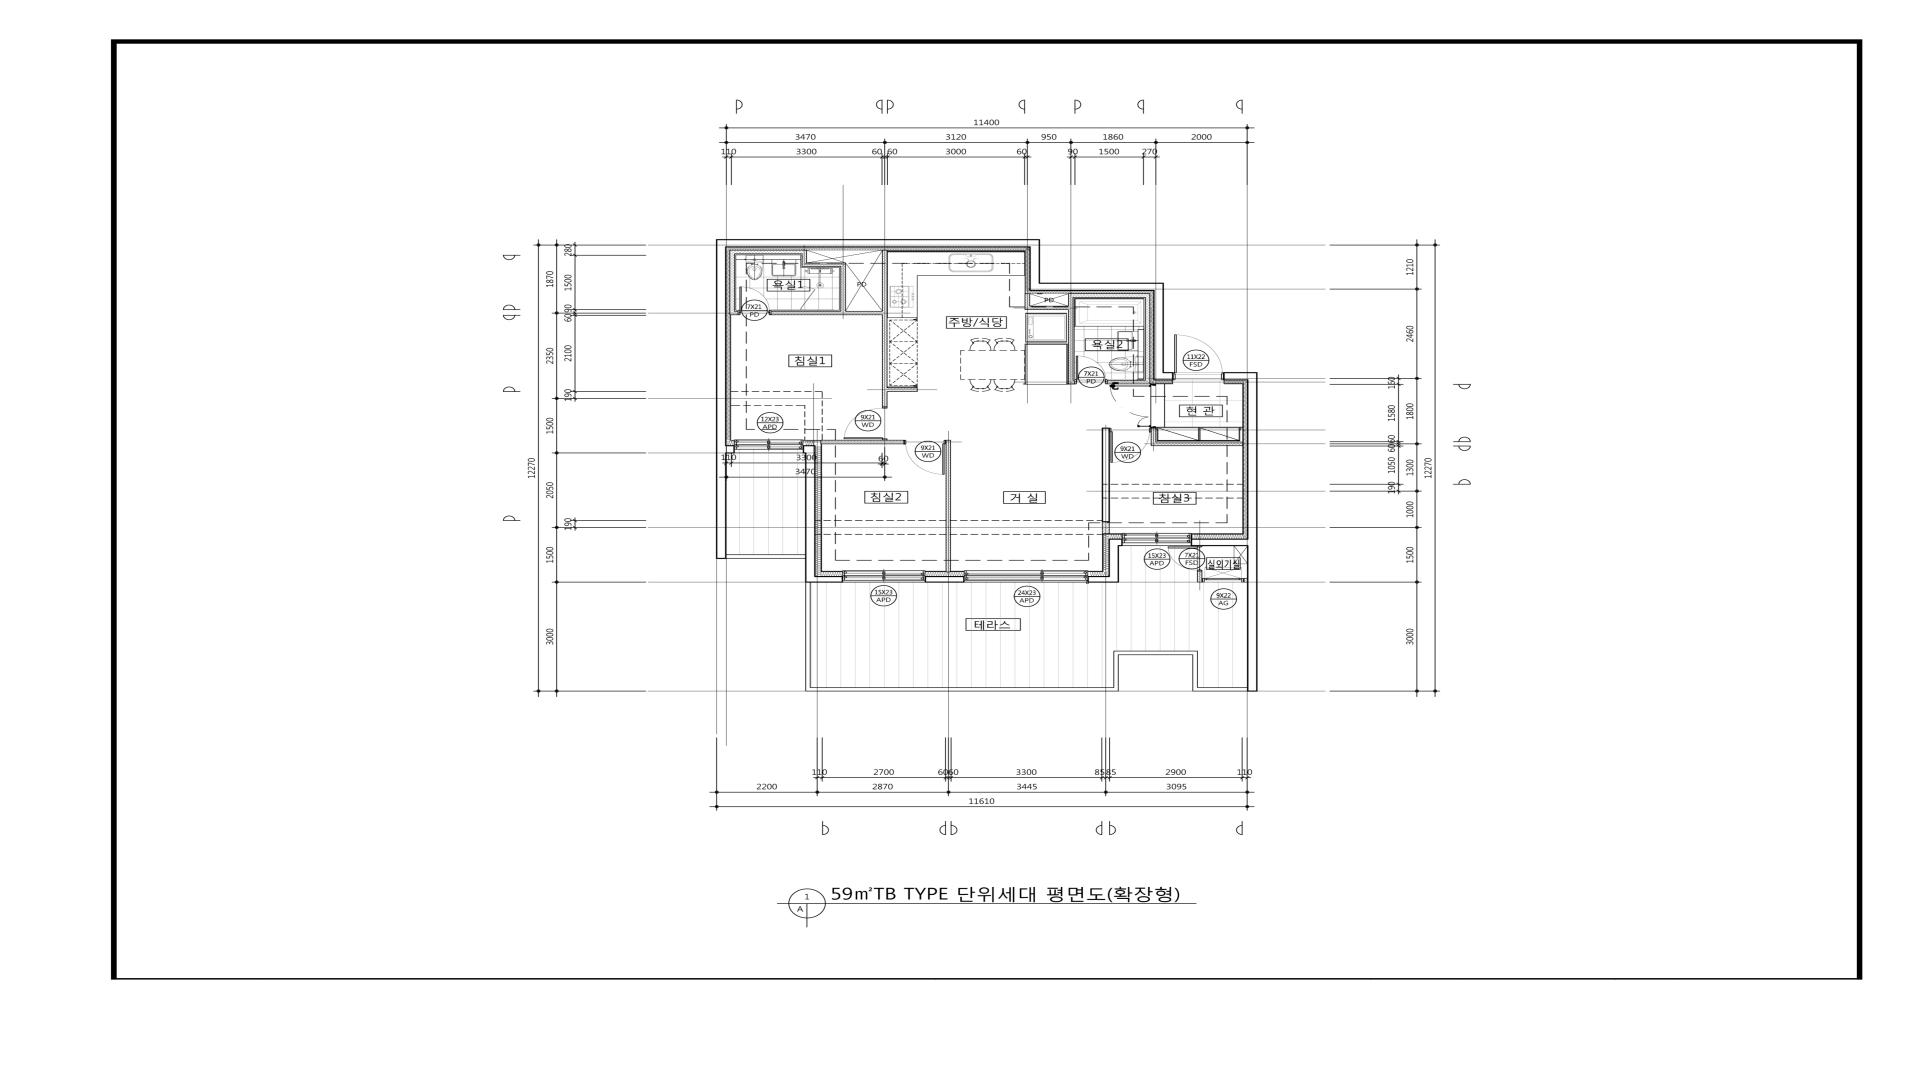door: (1174, 334, 1224, 380), (1109, 384, 1156, 427), (1110, 427, 1151, 463), (903, 440, 945, 475), (844, 406, 887, 439), (738, 286, 771, 315), (1075, 355, 1108, 384), (1167, 546, 1203, 571), (800, 286, 816, 310)
wall: (727, 239, 1040, 248), (1247, 372, 1258, 583), (716, 239, 727, 446), (803, 446, 815, 583), (1040, 282, 1164, 291), (1154, 291, 1164, 381), (1102, 427, 1110, 534), (882, 249, 887, 406), (945, 440, 951, 572), (1068, 293, 1075, 384), (1030, 248, 1040, 291), (1145, 298, 1150, 384), (1191, 538, 1247, 546), (771, 311, 882, 315), (1073, 293, 1150, 298), (1109, 546, 1120, 583), (735, 249, 807, 255), (1151, 442, 1244, 446), (820, 440, 903, 444), (729, 251, 735, 311), (926, 576, 964, 583), (840, 266, 845, 311), (1224, 372, 1247, 380), (815, 576, 843, 583), (807, 262, 845, 266), (1030, 306, 1068, 310), (1108, 380, 1145, 384), (716, 446, 735, 454), (1088, 576, 1109, 583), (887, 388, 918, 392), (1109, 538, 1122, 546), (1025, 293, 1030, 310), (1151, 427, 1156, 442), (1164, 372, 1174, 380), (1197, 571, 1203, 583), (802, 255, 807, 266), (729, 311, 738, 315), (800, 268, 802, 286)
window: (964, 571, 1088, 583), (735, 439, 803, 454), (843, 571, 926, 583), (1122, 533, 1191, 546), (1203, 578, 1247, 583)
